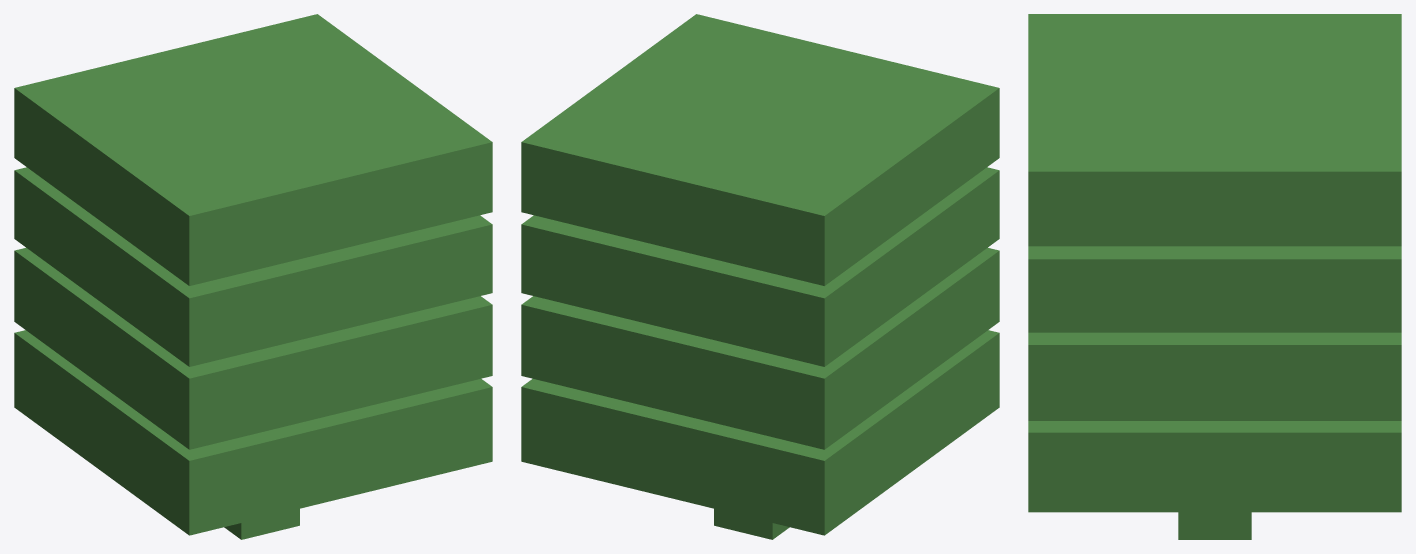
File: tree3d-046.glb
The picture shows the model from 3 angles, left to right: view 1: azimuth 30°, elevation 25°; view 2: azimuth 150°, elevation 25°; view 3: azimuth 270°, elevation 25°; orthographic projection. The views are drawn at different scales.
Visible parts, largest first — view 1: tree3d-046; view 2: tree3d-046; view 3: tree3d-046.
Boxes of the visible parts, x1=… form: tree3d-046: x1=14, y1=14, x2=492, y2=539; tree3d-046: x1=521, y1=14, x2=999, y2=539; tree3d-046: x1=1028, y1=14, x2=1401, y2=539.
Size of the model in its own units: 0.783 by 1 by 0.783.
